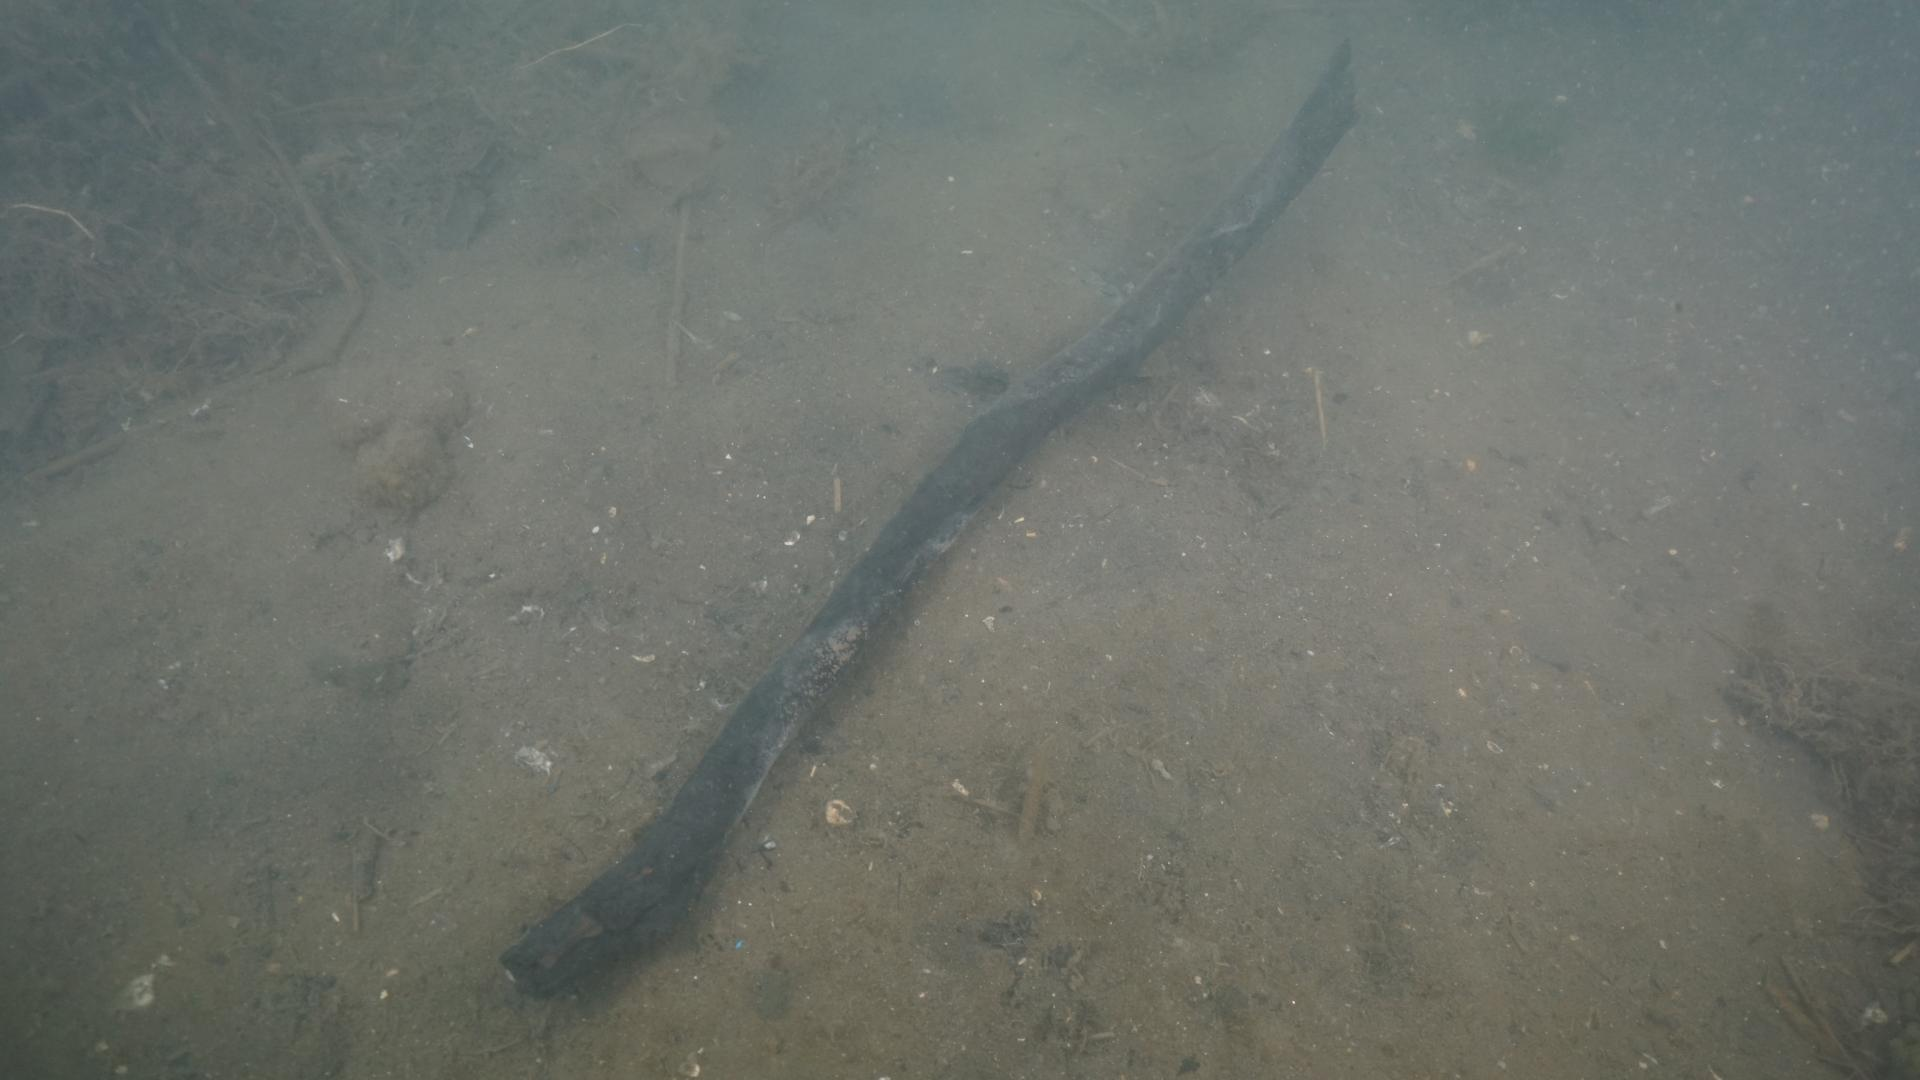wood: (497, 34, 1356, 1000)
